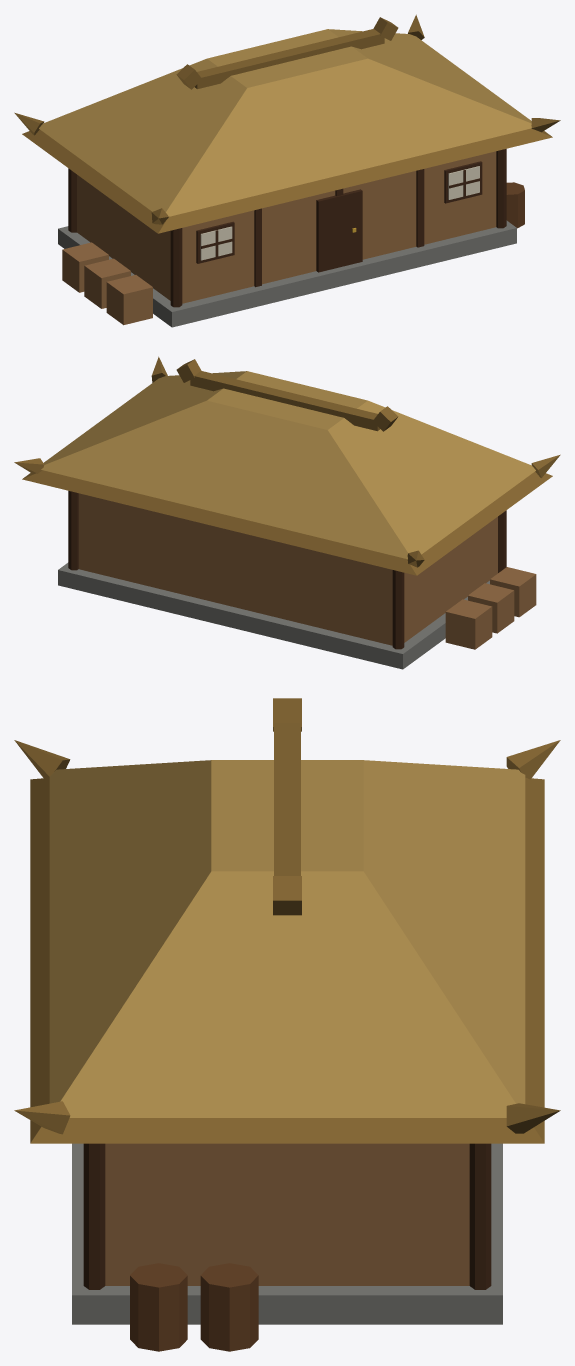
File: SM_GZ_warehouse_green.fbx
3 views of the same model, one above another, from view 1: azimuth 30°, elevation 25°; view 2: azimuth 150°, elevation 25°; view 3: azimuth 270°, elevation 25° (orthographic). The views are drawn at different scales.
Visible parts, largest first — view 1: SM_GZ_warehouse_green; view 2: SM_GZ_warehouse_green; view 3: SM_GZ_warehouse_green.
Boxes of the visible parts, x1=… form: SM_GZ_warehouse_green: x1=14, y1=14, x2=560, y2=327; SM_GZ_warehouse_green: x1=14, y1=356, x2=560, y2=669; SM_GZ_warehouse_green: x1=14, y1=698, x2=560, y2=1351.
Bounding box in the file's own units: 1385 × 649 × 850.
